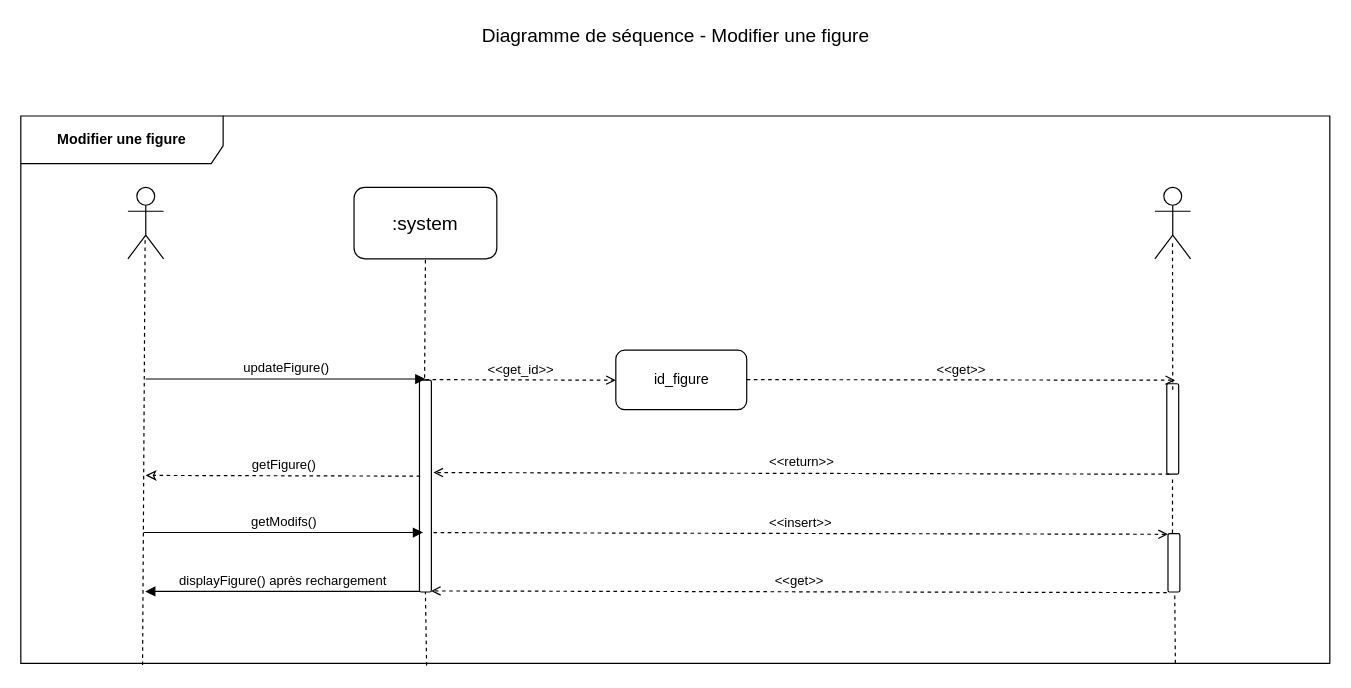
Some shapes in this 1351 by 688 pixel diagram are drawn without their labels. The shapes that lost their labels are listed below. From the top down, each one's box as (x1, y1, x2, y2) in pixels, then its label:
(127, 186, 164, 259): :admin
(1154, 186, 1191, 259): :bdd
